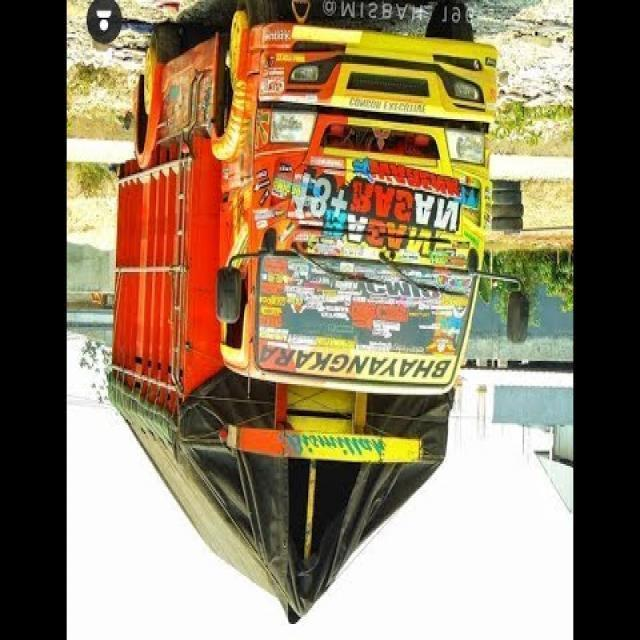truck: (106, 2, 526, 630)
